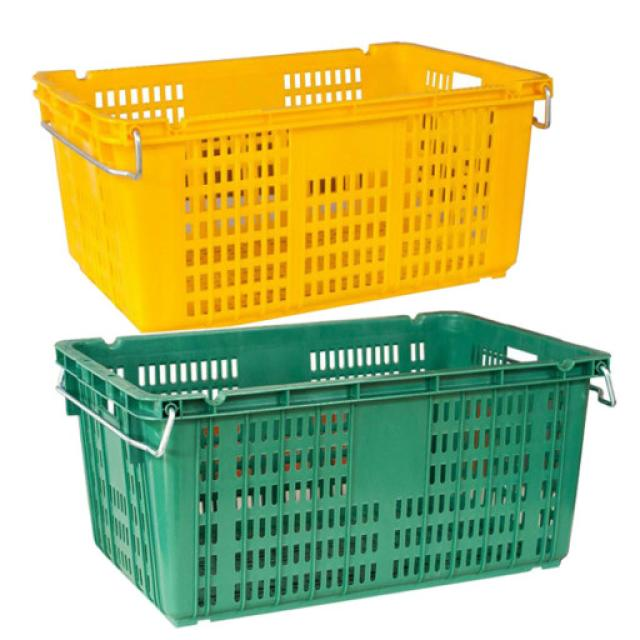basket: (54, 293, 632, 636), (33, 29, 571, 340)
